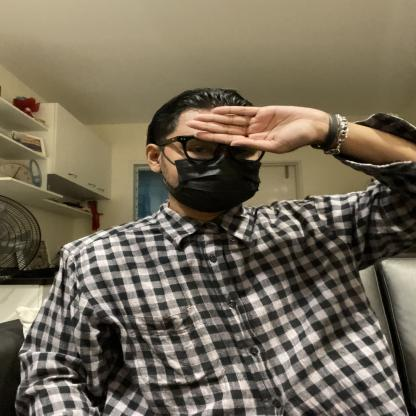Sick: (63, 56, 378, 235)
